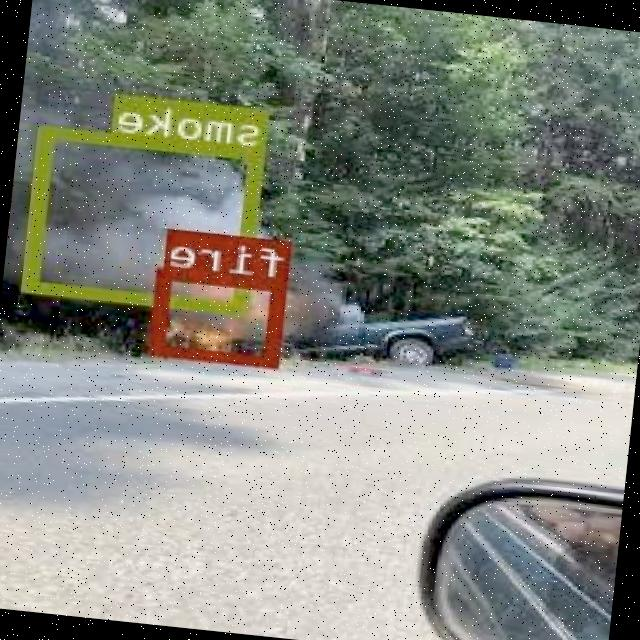fire: (154, 266, 291, 366)
smoke: (25, 122, 266, 314)
